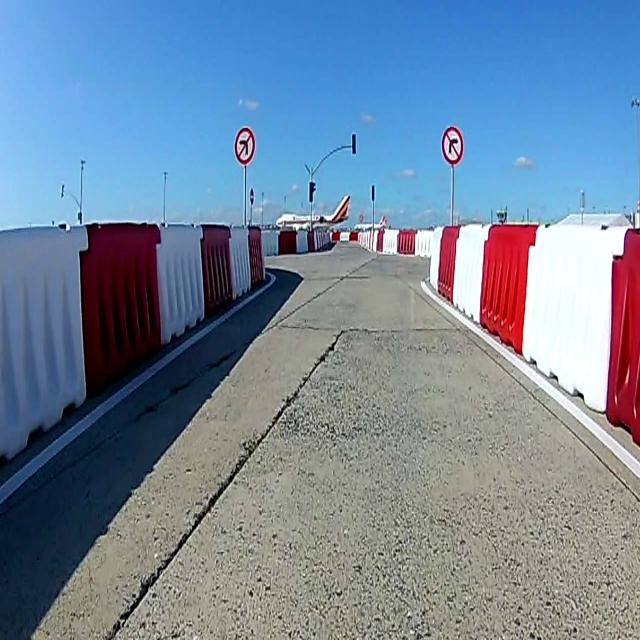sagadonulmez: (441, 124, 464, 165)
soladonulmez: (235, 126, 254, 163)
